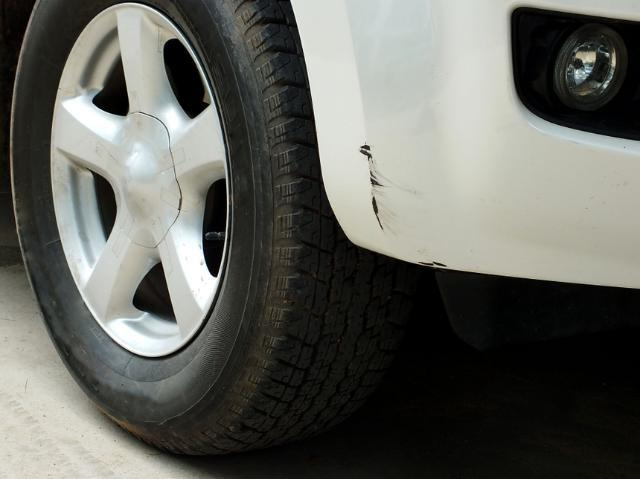Bumper: (322, 85, 444, 233)
